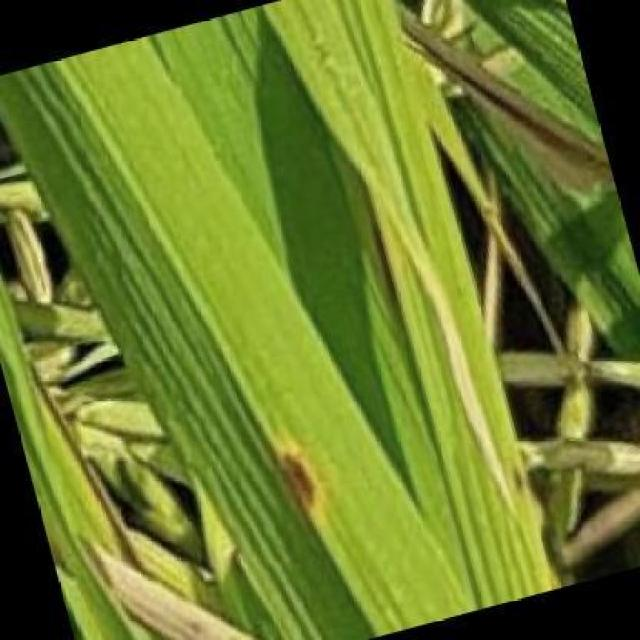Leaf_Blast: (259, 439, 336, 543)
